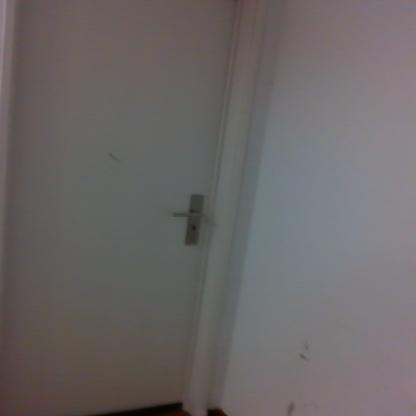closed: (0, 0, 277, 416)
